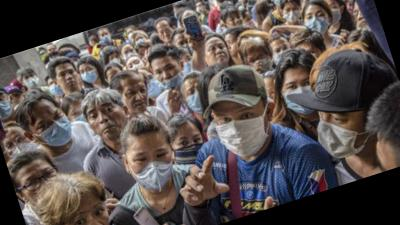mask_weared_incorrect: (153, 61, 188, 96), (226, 12, 249, 34), (8, 90, 27, 111)
with_mask: (211, 100, 277, 165), (309, 99, 372, 167), (126, 143, 182, 198), (32, 105, 78, 153), (280, 76, 322, 123), (168, 131, 211, 172), (1, 129, 39, 160), (303, 8, 334, 40), (183, 83, 209, 120), (245, 50, 276, 79), (143, 72, 166, 98), (174, 36, 197, 62), (282, 3, 306, 27), (270, 42, 295, 65), (325, 0, 345, 27), (78, 64, 101, 87), (176, 53, 198, 77), (69, 104, 90, 127), (21, 71, 43, 92), (46, 78, 66, 101), (120, 45, 140, 63), (126, 58, 145, 75), (264, 86, 280, 106), (106, 53, 124, 70), (242, 12, 258, 31), (133, 34, 148, 48), (46, 46, 60, 59), (100, 31, 113, 45), (71, 56, 83, 69), (126, 29, 138, 42), (195, 3, 206, 15), (172, 8, 181, 21), (88, 39, 95, 49)
without_mask: (85, 98, 133, 146), (17, 163, 65, 206), (61, 199, 121, 225), (120, 82, 154, 119), (201, 40, 233, 72), (55, 67, 83, 94), (157, 24, 177, 45), (354, 6, 370, 31), (225, 37, 241, 60)
